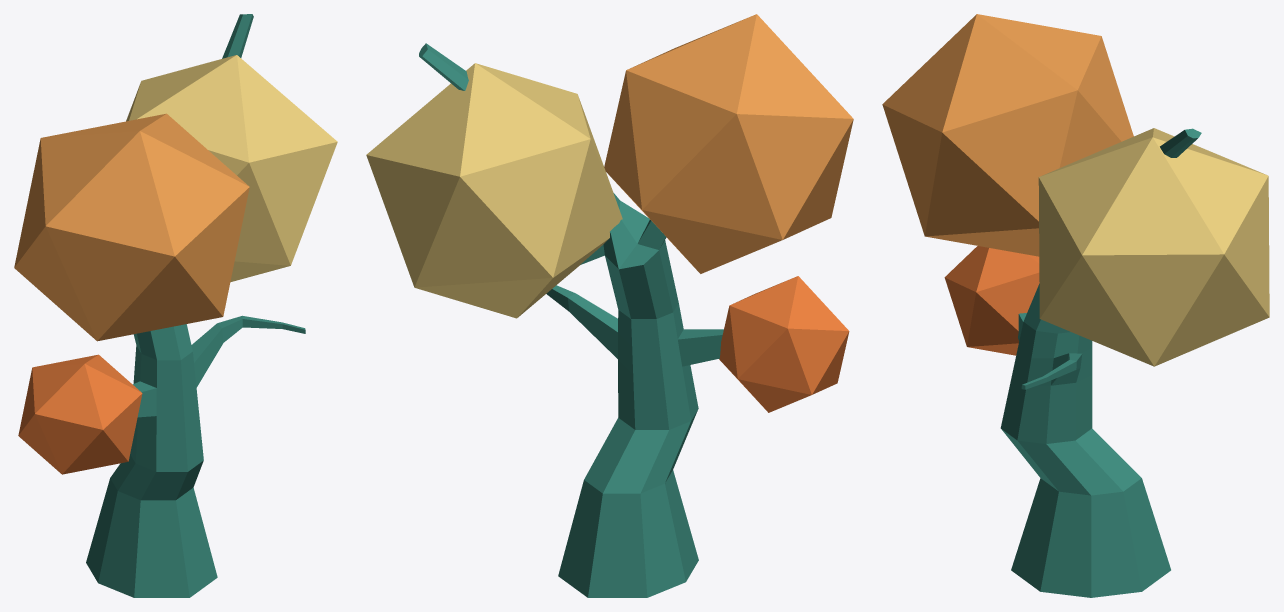
Rendered from 01_05Tree_Orange.fbx.
3 renders of one model, left to right at view 1: azimuth 30°, elevation 25°; view 2: azimuth 150°, elevation 25°; view 3: azimuth 270°, elevation 25°, orthographic. The views are drawn at different scales.
Visible parts, largest first — view 1: Cube.014; view 2: Cube.014; view 3: Cube.014.
Boxes of the visible parts, left/top/right/bottom form: Cube.014: left=14, top=14, right=337, bottom=597; Cube.014: left=366, top=14, right=853, bottom=597; Cube.014: left=882, top=14, right=1269, bottom=597.
Size of the model in its own units: 184 by 253 by 170.
